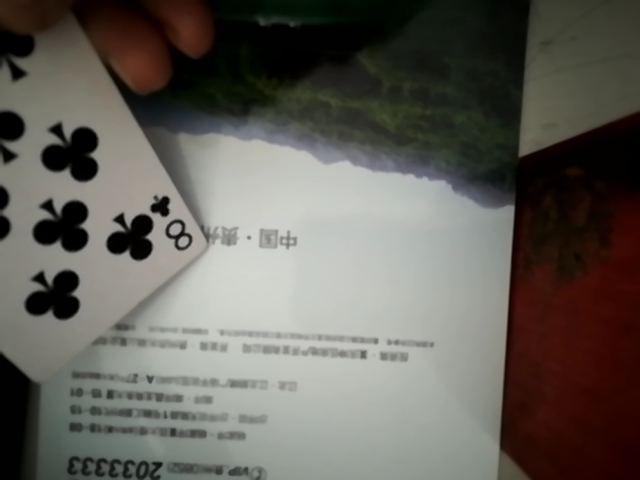mh 8: (0, 13, 208, 398)
